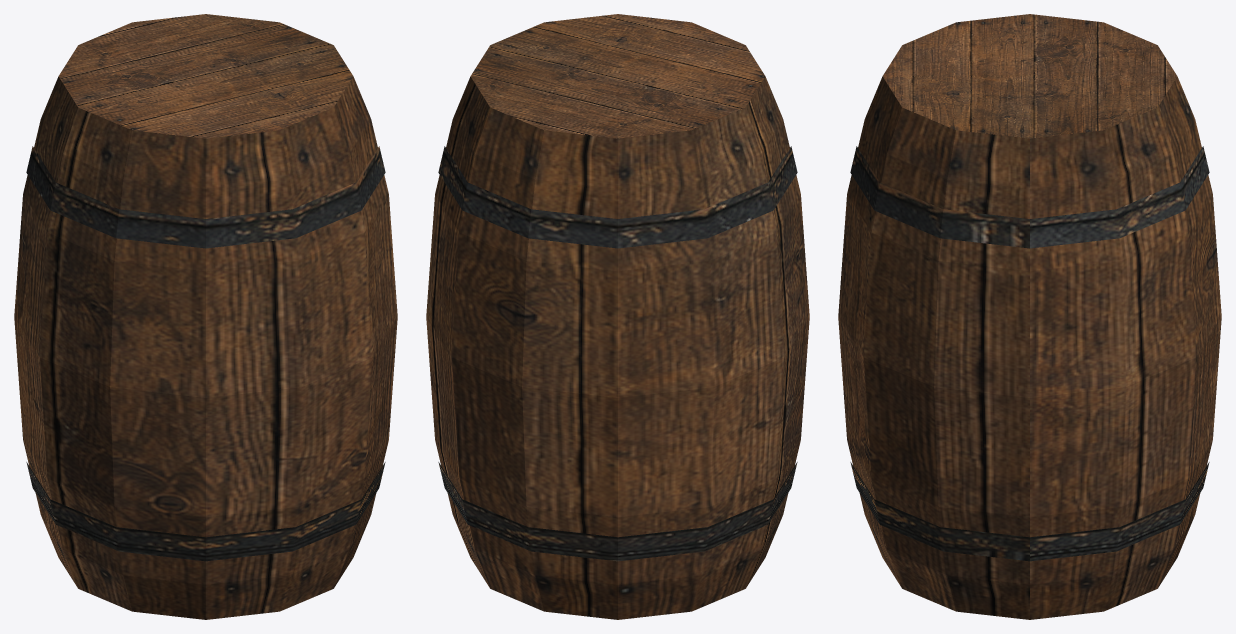
File: barrel.glb
3 views of the same model, side by side, from view 1: azimuth 30°, elevation 25°; view 2: azimuth 150°, elevation 25°; view 3: azimuth 270°, elevation 25° (orthographic).
Visible parts, largest first — view 1: barrel_wood_staves, barrel_iron_hoops; view 2: barrel_wood_staves, barrel_iron_hoops; view 3: barrel_wood_staves, barrel_iron_hoops.
Boxes of the visible parts, x1,y1,x2,y2 form: barrel_wood_staves: [14, 14, 397, 619]; barrel_iron_hoops: [26, 146, 385, 561]; barrel_wood_staves: [426, 14, 809, 619]; barrel_iron_hoops: [438, 146, 797, 561]; barrel_wood_staves: [838, 14, 1221, 619]; barrel_iron_hoops: [850, 146, 1209, 561].
Size of the model in its own units: 0.65 by 0.9 by 0.65.
2 materials, 2 textured.
